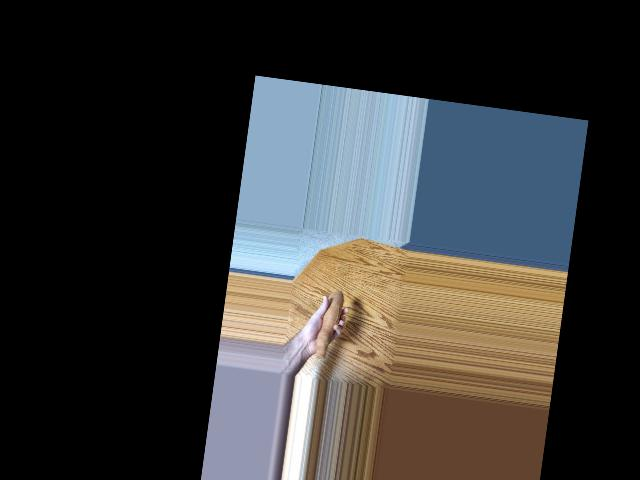sweet_potato: (307, 286, 346, 367)
